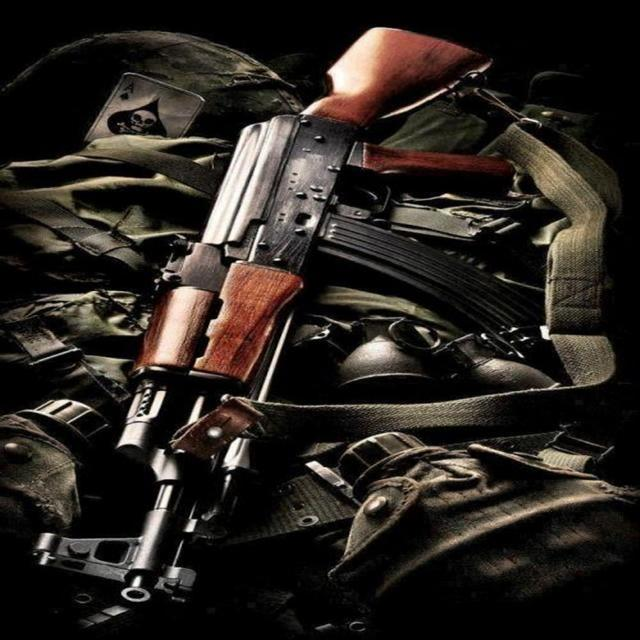ak: (75, 26, 583, 618)
